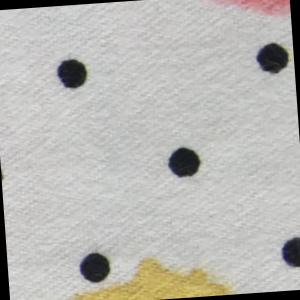Oil Stain: (56, 248, 237, 300)
Stain: (192, 1, 292, 30)
